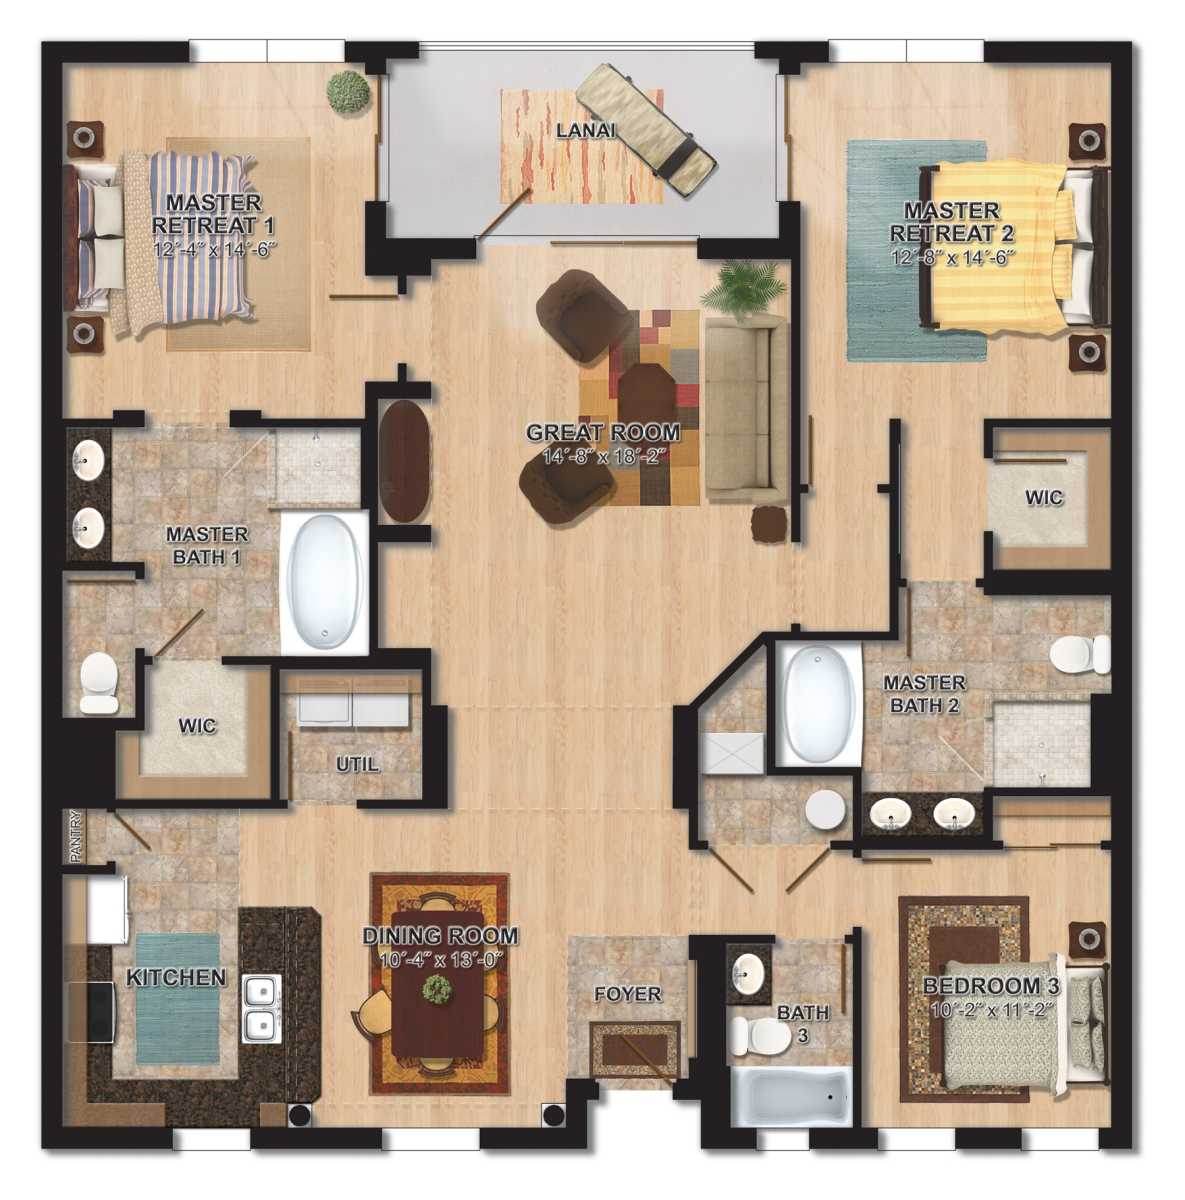room: (25, 793, 602, 1156), (772, 29, 1138, 434), (31, 31, 391, 430), (41, 410, 381, 810), (766, 567, 1144, 854), (838, 830, 1139, 1157), (652, 631, 868, 902), (686, 927, 869, 1160), (966, 411, 1145, 604), (268, 648, 456, 825)
